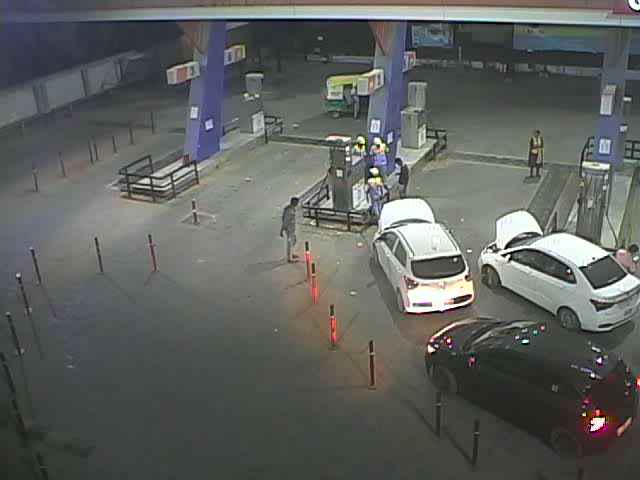Auto: (319, 68, 369, 122)
Car: (418, 306, 639, 466), (472, 204, 639, 340), (366, 190, 479, 325)
Others: (361, 161, 388, 227), (367, 130, 392, 195), (350, 130, 371, 171), (349, 78, 363, 123)
